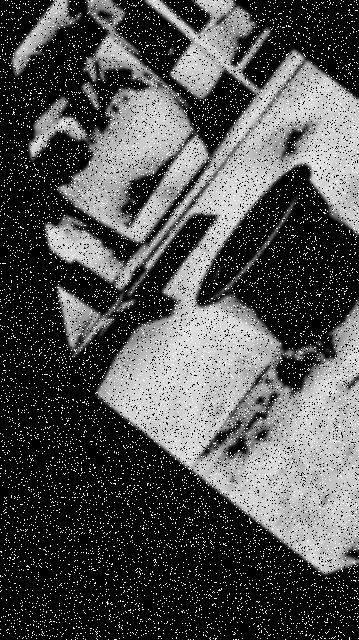pot: (193, 164, 359, 348)
